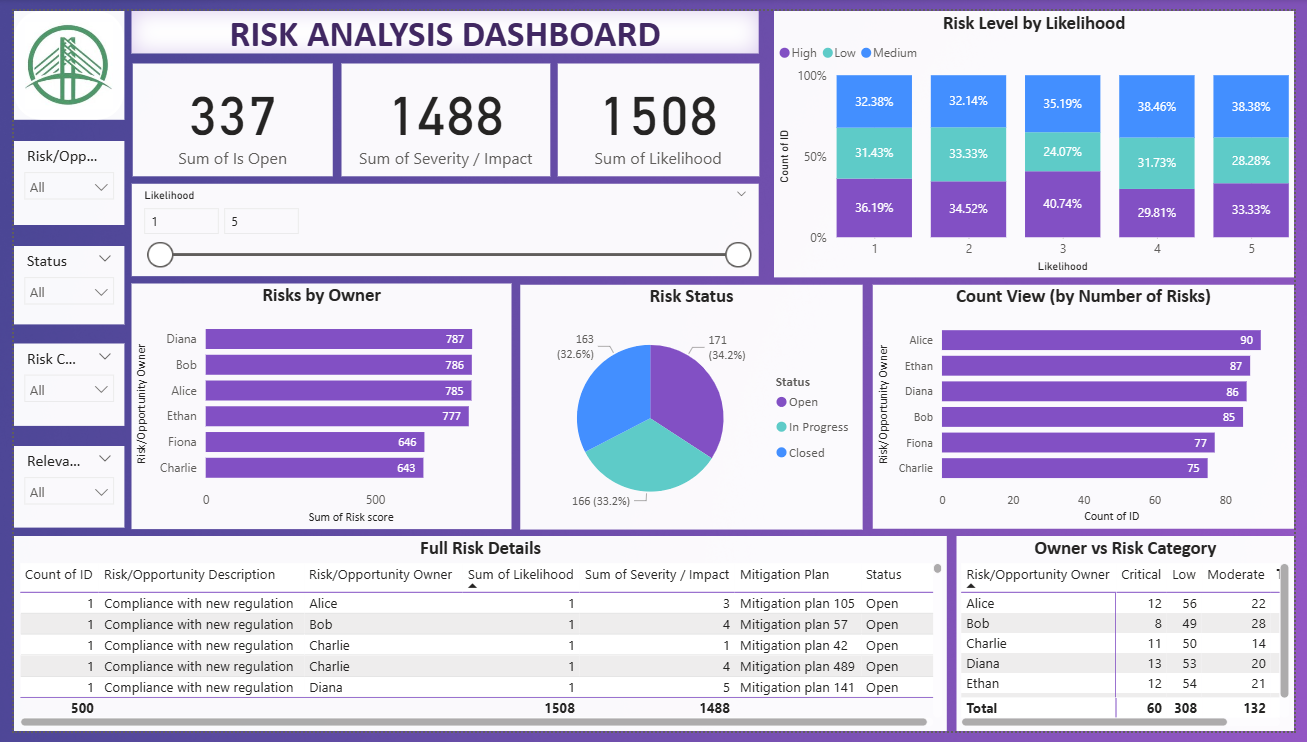

The page's visual inventory and layout, read from the dashboard file:
{"tool":"powerbi","page":{"name":"Risk Summary","canvas":[1280,720],"ordinal":0},"visuals":[{"type":"card","fields":{"Values":["Sheet1.Is Open"]},"box":[118.8,52.5,200,112.5],"z":0},{"type":"barChart","title":"Risks by Owner","fields":{"Y":["Sheet1.Risk score"],"Category":["Sheet1.Risk/Opportunity Owner"]},"box":[117.4,272.9,380.3,245.8],"z":1000},{"type":"pieChart","title":"Risk Status","fields":{"Category":["Sheet1.Status"],"Y":["Sheet1.ID"]},"box":[506.2,273.8,342.5,245],"z":2000},{"type":"barChart","title":" Count View (by Number of Risks)","fields":{"Y":["Sheet1.ID"],"Category":["Sheet1.Risk/Opportunity Owner"]},"box":[858.8,273.8,421.2,243.8],"z":3000},{"type":"hundredPercentStackedColumnChart","title":"Risk Level by Likelihood","fields":{"Category":["Sheet1.Likelihood"],"Y":["Sheet1.ID"],"Series":["Sheet1.Risk/Opportunity Level"]},"box":[760,0,520,266.2],"z":4000},{"type":"pivotTable","title":"Owner vs Risk Category","fields":{"Rows":["Sheet1.Risk/Opportunity Owner"],"Columns":["Sheet1.Risk Category"],"Values":["Sheet1.ID"]},"box":[942.8,524.6,337.5,195.7],"z":5000},{"type":"tableEx","title":"Full Risk Details","fields":{"Values":["Sheet1.ID","Sheet1.Risk/Opportunity Description","Sheet1.Risk/Opportunity Owner","Sheet1.Likelihood","Sheet1.Severity / Impact","Sheet1.Mitigation Plan","Sheet1.Status"]},"box":[0,524.6,933,195.7],"z":6000},{"type":"card","fields":{"Values":["Sheet1.Likelihood"]},"box":[543.8,52.5,201.2,112.5],"z":7000},{"type":"card","fields":{"Values":["Sheet1.Severity / Impact"]},"box":[327.5,52.5,208.8,112.5],"z":8000},{"type":"slicer","fields":{"Values":["Sheet1.Risk/Opportunity Owner"]},"box":[0,129.8,110,83.8],"z":9000},{"type":"slicer","fields":{"Values":["Sheet1.Status"]},"box":[0,234.6,110,78.8],"z":10000},{"type":"slicer","fields":{"Values":["Sheet1.Risk Category"]},"box":[0,332.1,110,82.5],"z":11000},{"type":"slicer","fields":{"Values":["Sheet1.Likelihood"]},"box":[117.5,172.5,627.5,92.5],"z":12000},{"type":"slicer","fields":{"Values":["Sheet1.Relevant Issue / Interested Party"]},"box":[0,435.5,110.1,81.9],"z":13000},{"type":"textbox","title":"RISK ANALYSIS DASHBOARD","box":[117.5,0,627.5,42.5],"z":14000},{"type":"actionButton","box":[0,0,110,108.8],"z":15000}]}

Visuals, with their boxes in screenshot pixels (x1, y1, x2, y2), scaled from the page's 1280x720 canvas onto the 1307x742 screenshot:
card - Sheet1.Is Open: BBox(121, 54, 326, 170)
"Risks by Owner" barChart: BBox(120, 281, 508, 535)
"Risk Status" pieChart: BBox(517, 282, 867, 535)
" Count View (by Number of Risks)" barChart: BBox(877, 282, 1306, 533)
"Risk Level by Likelihood" hundredPercentStackedColumnChart: BBox(776, 0, 1306, 274)
"Owner vs Risk Category" pivotTable: BBox(963, 541, 1306, 741)
"Full Risk Details" tableEx: BBox(0, 541, 953, 741)
card - Sheet1.Likelihood: BBox(555, 54, 761, 170)
card - Sheet1.Severity / Impact: BBox(334, 54, 548, 170)
slicer - Sheet1.Risk/Opportunity Owner: BBox(0, 134, 112, 220)
slicer - Sheet1.Status: BBox(0, 242, 112, 323)
slicer - Sheet1.Risk Category: BBox(0, 342, 112, 427)
slicer - Sheet1.Likelihood: BBox(120, 178, 761, 273)
slicer - Sheet1.Relevant Issue / Interested Party: BBox(0, 449, 112, 533)
"RISK ANALYSIS DASHBOARD" textbox: BBox(120, 0, 761, 44)
actionButton: BBox(0, 0, 112, 112)
